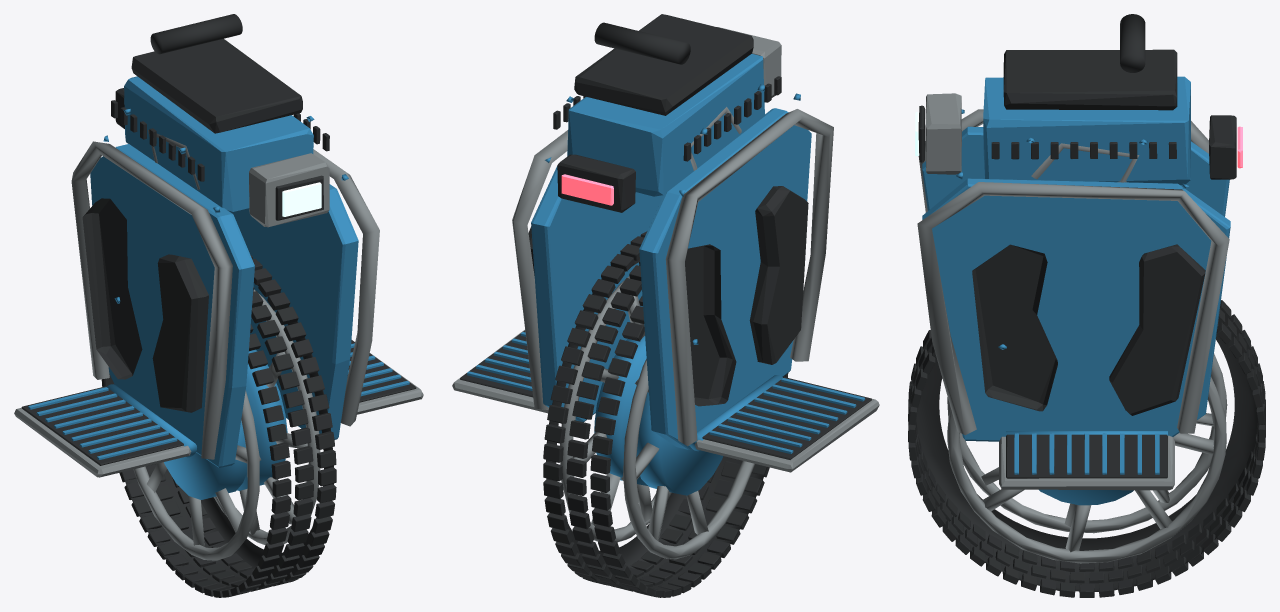
File: Euc_city.glb
3 renders of one model, left to right at view 1: azimuth 30°, elevation 25°; view 2: azimuth 150°, elevation 25°; view 3: azimuth 270°, elevation 25°, orthographic. The views are drawn at different scales.
Parts seen in each view (by area): view 1: Tire_Staggered_Tread, SideShell_-1, SideShell_1, Upper_Chassis, Top_Cushion, CrashRail_-1, PowerPad_Front_-1, PowerPad_Rear_-1, CrashRail_1, Pedal_Grip_-1, Rim_Ring_-1, Pedal_L_Pivot_Pedal_Ridge_Set (+15 smaller); view 2: Tire_Staggered_Tread, SideShell_-1, SideShell_1, Upper_Chassis, CrashRail_-1, Top_Cushion, PowerPad_Front_-1, PowerPad_Rear_-1, Pedal_Grip_-1, Rim_Ring_-1, CrashRail_1, Pedal_L_Pivot_Pedal_Ridge_Set (+15 smaller); view 3: SideShell_1, Tire_Staggered_Tread, Upper_Chassis, CrashRail_1, Tire_Carcass, PowerPad_Front_1, PowerPad_Rear_1, Top_Cushion, Rim_Ring_1, Pedal_Grip_1, Rim_Ring_-1, SideShell_-1 (+11 smaller).
Part boxes in pixels (x1=…): Tire_Staggered_Tread: x1=101, y1=255, x2=336, y2=597; SideShell_-1: x1=90, y1=144, x2=254, y2=467; SideShell_1: x1=231, y1=184, x2=358, y2=439; Upper_Chassis: x1=124, y1=76, x2=313, y2=212; Top_Cushion: x1=131, y1=38, x2=302, y2=133; CrashRail_-1: x1=71, y1=141, x2=232, y2=459; PowerPad_Front_-1: x1=152, y1=254, x2=208, y2=412; PowerPad_Rear_-1: x1=82, y1=198, x2=142, y2=379; CrashRail_1: x1=313, y1=149, x2=379, y2=426; Pedal_Grip_-1: x1=21, y1=386, x2=183, y2=465; Rim_Ring_-1: x1=133, y1=390, x2=259, y2=560; Pedal_L_Pivot_Pedal_Ridge_Set: x1=28, y1=387, x2=177, y2=459; Tire_Staggered_Tread: x1=543, y1=231, x2=788, y2=597; SideShell_-1: x1=639, y1=108, x2=811, y2=449; SideShell_1: x1=531, y1=166, x2=663, y2=422; Upper_Chassis: x1=567, y1=54, x2=764, y2=196; CrashRail_-1: x1=665, y1=109, x2=833, y2=446; Top_Cushion: x1=574, y1=14, x2=753, y2=115; PowerPad_Front_-1: x1=749, y1=186, x2=808, y2=364; PowerPad_Rear_-1: x1=685, y1=244, x2=736, y2=406; Pedal_Grip_-1: x1=702, y1=377, x2=871, y2=459; Rim_Ring_-1: x1=623, y1=359, x2=755, y2=559; CrashRail_1: x1=512, y1=130, x2=567, y2=409; Pedal_L_Pivot_Pedal_Ridge_Set: x1=709, y1=378, x2=865, y2=454; SideShell_1: x1=922, y1=178, x2=1230, y2=441; Tire_Staggered_Tread: x1=908, y1=300, x2=1265, y2=597; Upper_Chassis: x1=983, y1=76, x2=1190, y2=184; CrashRail_1: x1=917, y1=182, x2=1229, y2=435; Tire_Carcass: x1=916, y1=334, x2=1257, y2=591; PowerPad_Front_1: x1=972, y1=244, x2=1057, y2=411; PowerPad_Rear_1: x1=1109, y1=244, x2=1205, y2=415; Top_Cushion: x1=1003, y1=49, x2=1177, y2=110; Rim_Ring_1: x1=947, y1=376, x2=1226, y2=563; Pedal_Grip_1: x1=1006, y1=434, x2=1167, y2=478; Rim_Ring_-1: x1=947, y1=353, x2=1227, y2=533; SideShell_-1: x1=922, y1=126, x2=1229, y2=216.
Size of the model in its own units: 0.5477 by 0.8616 by 0.5089.
